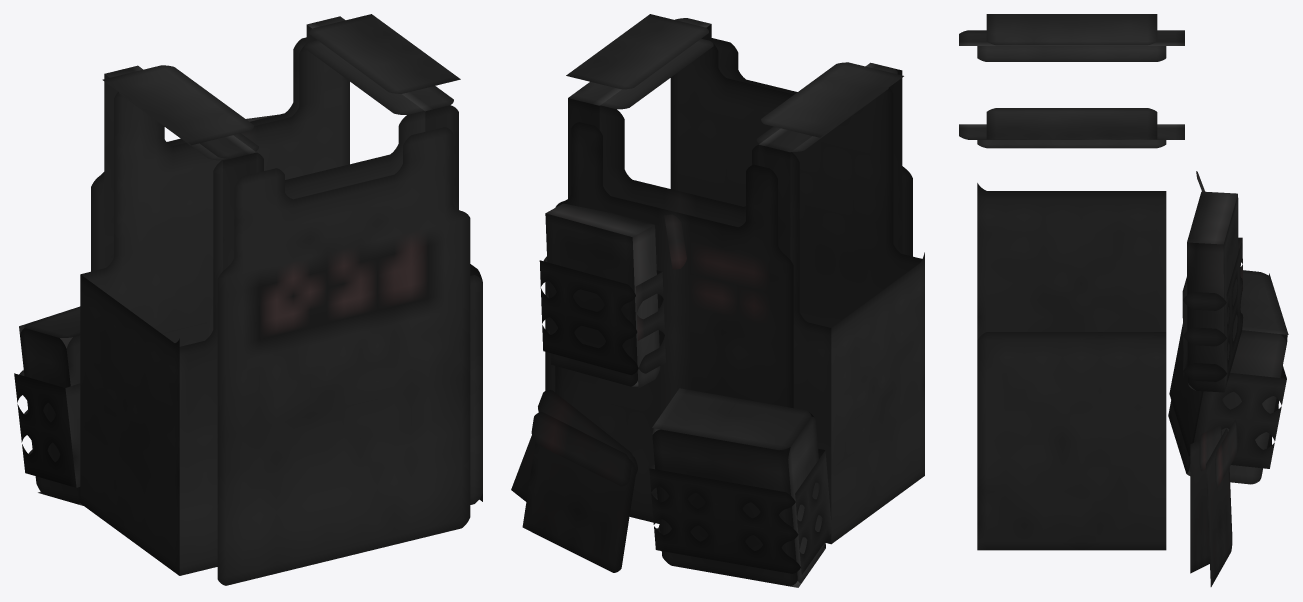
Rendered from security_vest_black.obj.
3 views of the same model, side by side, from view 1: azimuth 30°, elevation 25°; view 2: azimuth 150°, elevation 25°; view 3: azimuth 270°, elevation 25° (orthographic). The views are drawn at different scales.
Visible parts, largest first — view 1: vest; view 2: vest; view 3: vest.
Boxes of the visible parts, x1=… form: vest: x1=14, y1=14, x2=482, y2=585; vest: x1=511, y1=14, x2=924, y2=587; vest: x1=959, y1=14, x2=1288, y2=586.
Bounding box in the file's own units: 0.6323 × 0.8471 × 0.5655.
